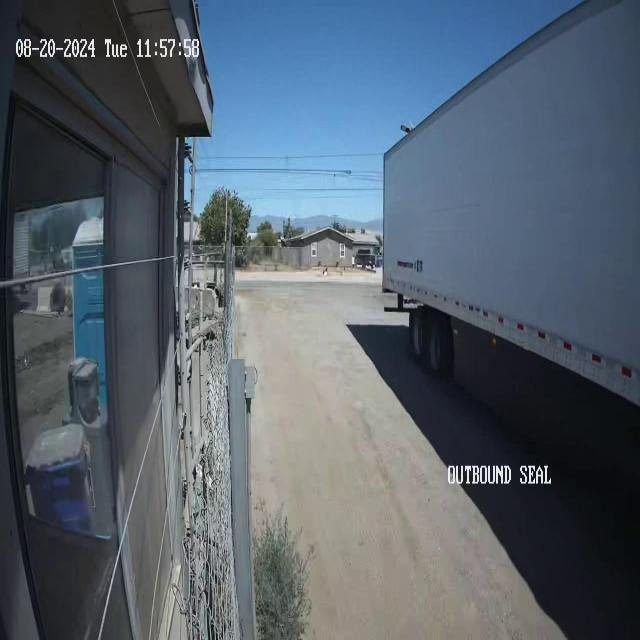TRUCK_IN: (381, 1, 639, 410)
